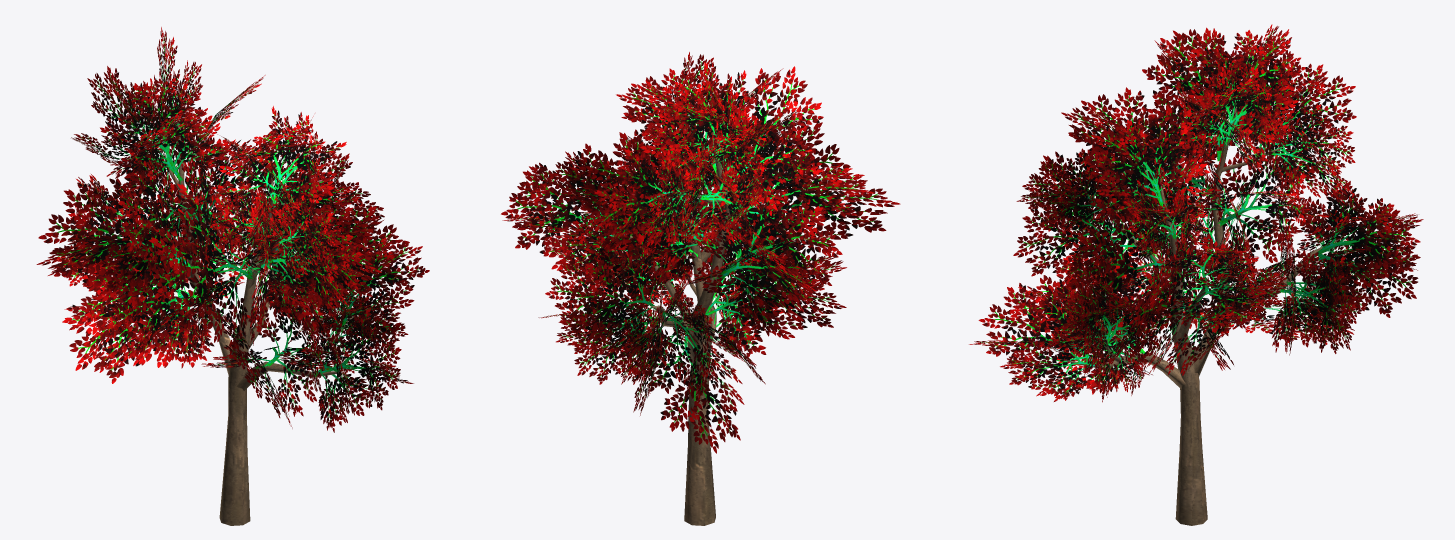
The model's file is Tree_01.fbx.
3 renders of one model, left to right at view 1: azimuth 30°, elevation 25°; view 2: azimuth 150°, elevation 25°; view 3: azimuth 270°, elevation 25°, orthographic. The views are drawn at different scales.
Parts seen in each view (by area): view 1: Tree_01_LOD0; view 2: Tree_01_LOD0; view 3: Tree_01_LOD0.
Part boxes in pixels (box(x1,y1,x2,y2)): Tree_01_LOD0: box(36, 27, 429, 525); Tree_01_LOD0: box(501, 52, 900, 525); Tree_01_LOD0: box(969, 24, 1423, 525).
Size of what is drawn, in the model's own units: 9.71 by 12.63 by 11.32.
Materials: 1 (1 with a texture image).
